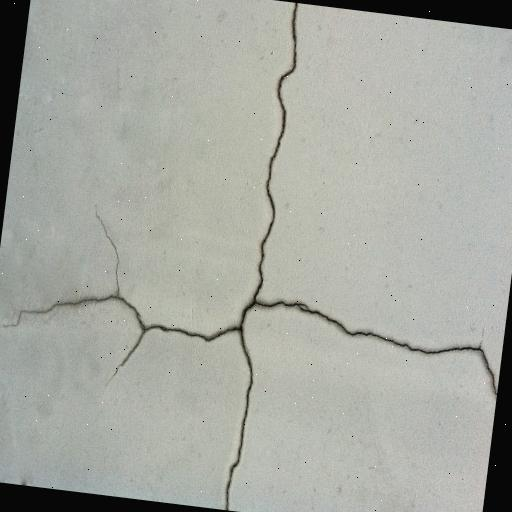spalling: (216, 9, 305, 502), (17, 200, 227, 383), (260, 293, 499, 411)
